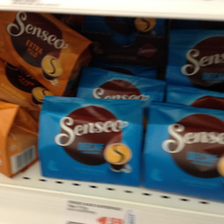chocolate: (38, 95, 144, 185), (143, 102, 224, 203), (1, 13, 90, 94)
